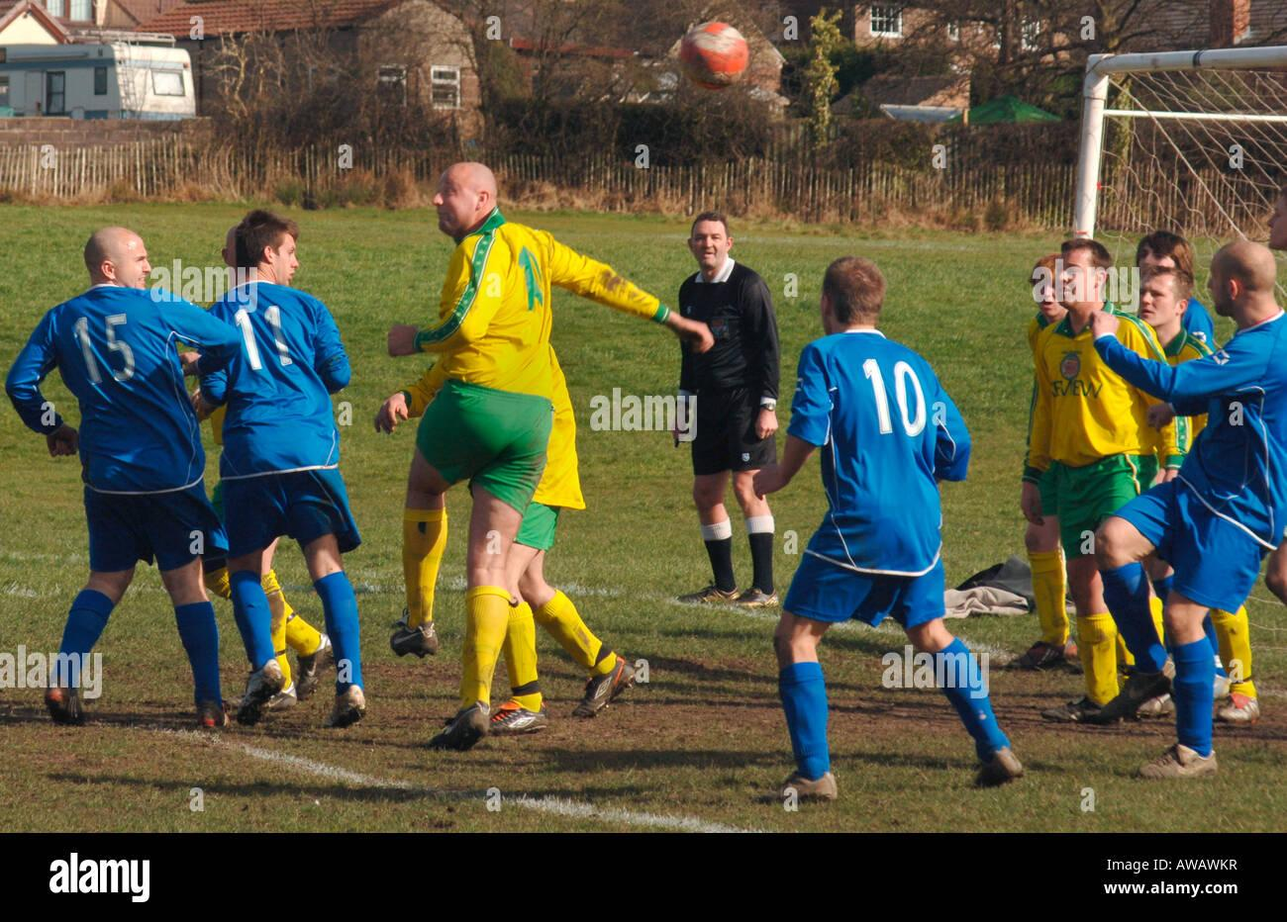ballon_football: (677, 21, 749, 92)
